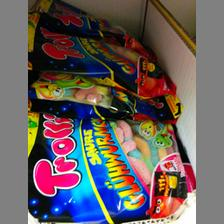Suessigkeit: (27, 113, 192, 220), (36, 19, 166, 82)
